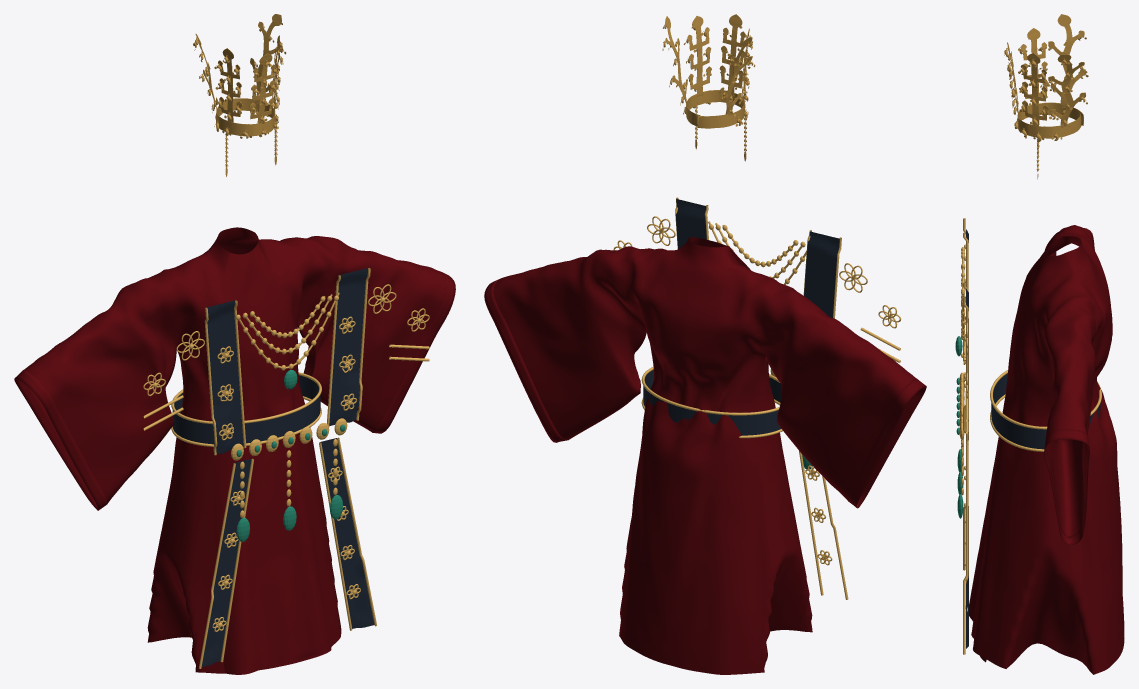
3 renders of one model, left to right at view 1: azimuth 30°, elevation 25°; view 2: azimuth 150°, elevation 25°; view 3: azimuth 270°, elevation 25°, orthographic.
Visible parts, largest first — view 1: SM_CL00125; view 2: SM_CL00125; view 3: SM_CL00125.
Boxes of the visible parts, x1=… form: SM_CL00125: x1=14, y1=14, x2=455, y2=674; SM_CL00125: x1=484, y1=14, x2=926, y2=674; SM_CL00125: x1=955, y1=14, x2=1124, y2=674.
Size of the model in its own units: 1.66 by 2.27 by 0.5732.
8 materials, 4 textured.
